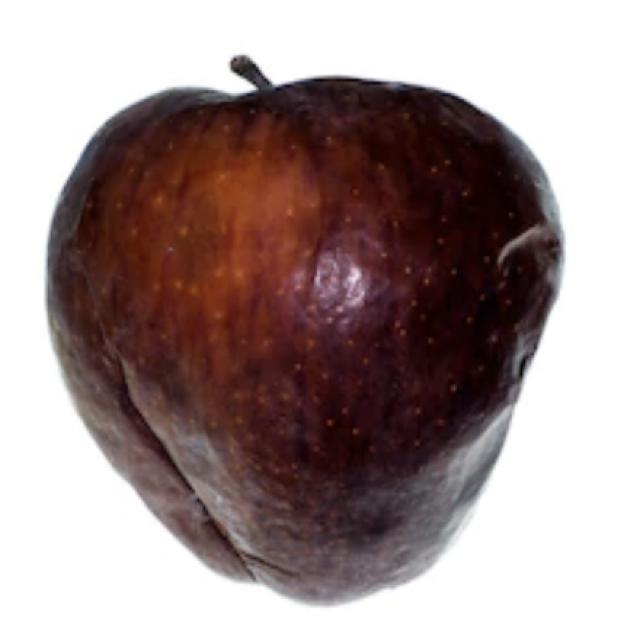Rotten: (40, 61, 565, 602)
